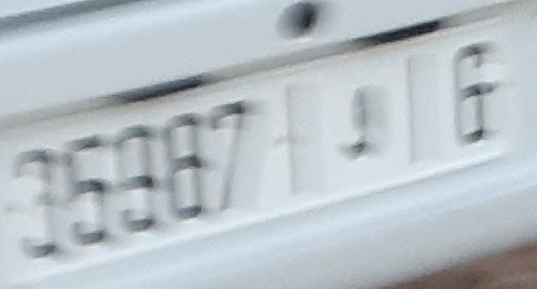3: (11, 146, 63, 263)
5: (60, 133, 112, 249)
6: (451, 40, 490, 145)
7: (208, 99, 253, 213)
8: (159, 114, 208, 223)
9: (113, 121, 160, 235)
waw: (334, 81, 377, 163)
